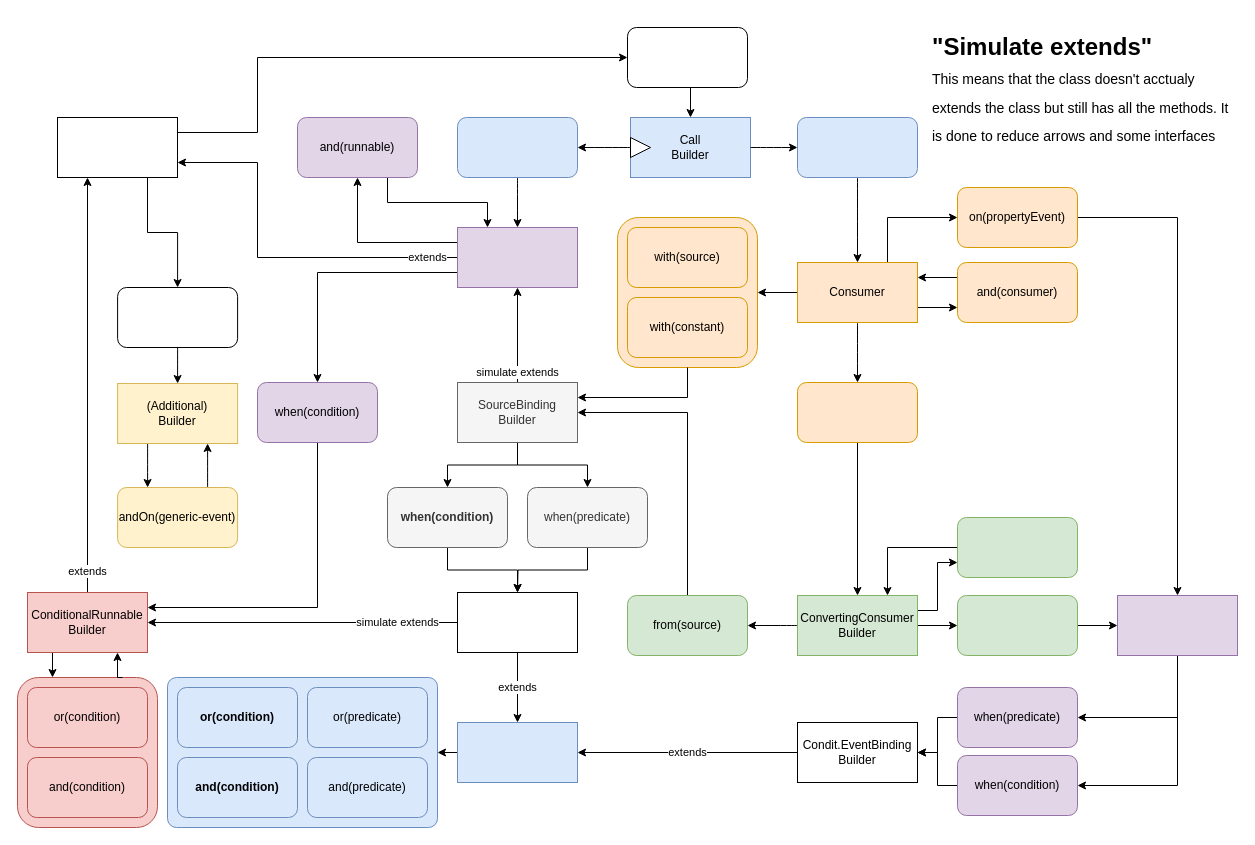
The diagram is 1255 pixels wide and 845 high, and some of its shapes have lost their labels. The shapes that lost their labels are listed below. From the top down, each one's centre as x and y in pixels, then its label:
At point 687,57: "andAlso()".
At point 117,147: "BaseRunable Builder".
At point 517,147: "call(runnable)".
At point 857,147: "call(consumer)".
At point 517,257: "RunnableCall Builder".
At point 177,317: "on(generic-event)".
At point 857,412: "with(converter)".
At point 1017,547: "from(converter)".
At point 517,622: "ConditionalSource Binding Builder".
At point 1017,625: "from(propertyEvent)".
At point 1177,625: "EventBinding Builder".
At point 517,752: "ConditionalBinding Builder".
